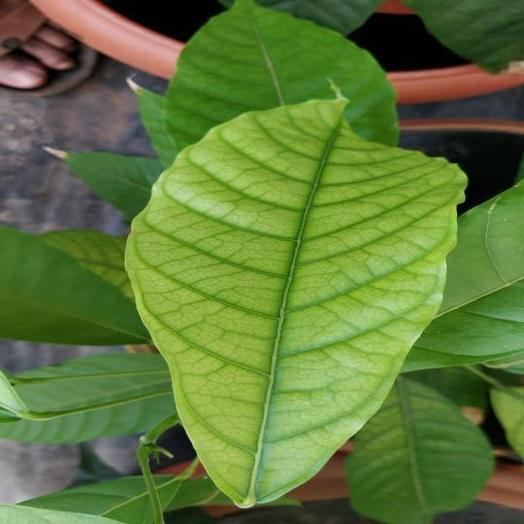Healthy Leaf: (166, 0, 397, 152), (404, 180, 523, 370), (346, 375, 493, 523), (1, 226, 148, 344), (0, 353, 173, 443), (46, 148, 162, 221), (22, 476, 152, 523), (156, 475, 229, 512)
Iron: (126, 93, 466, 506)
